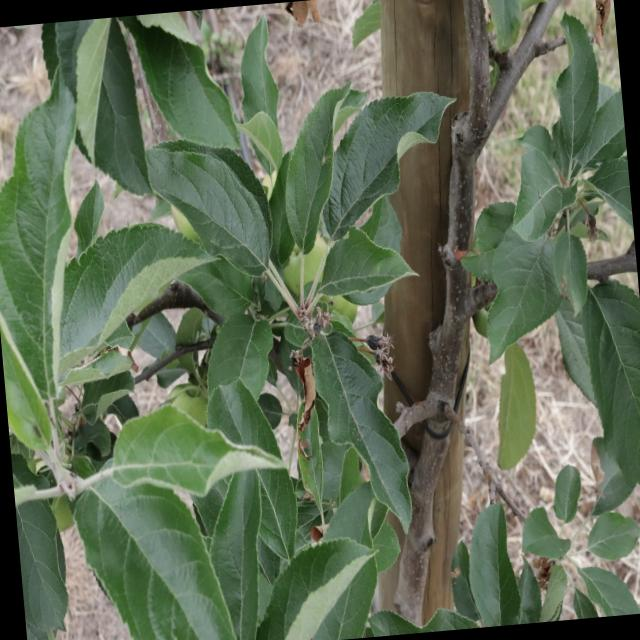-FireBlight-: (283, 326, 324, 428)
